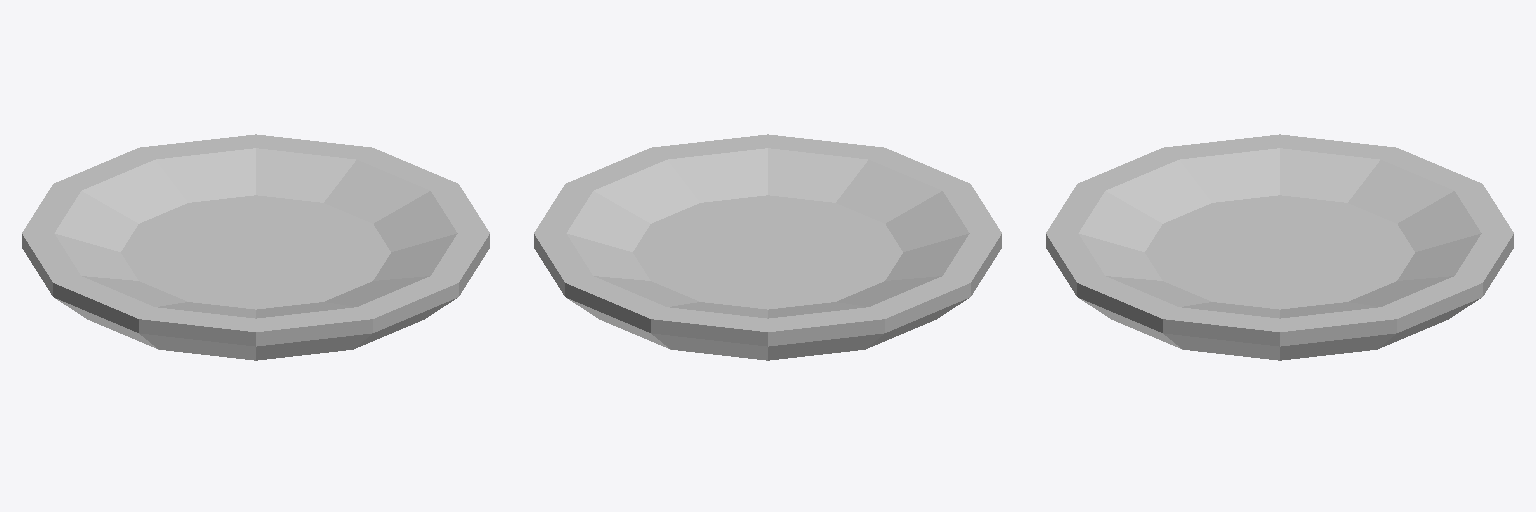
File: cup-saucer.obj
3 renders of one model, left to right at view 1: azimuth 30°, elevation 25°; view 2: azimuth 150°, elevation 25°; view 3: azimuth 270°, elevation 25°, orthographic.
Parts seen in each view (by area): view 1: cup-saucer; view 2: cup-saucer; view 3: cup-saucer.
Boxes of the visible parts, <box> form: cup-saucer: <box>22,134,489,360</box>; cup-saucer: <box>534,134,1001,360</box>; cup-saucer: <box>1046,134,1513,360</box>.
Bounding box in the file's own units: 0.3567 × 0.038 × 0.3567.